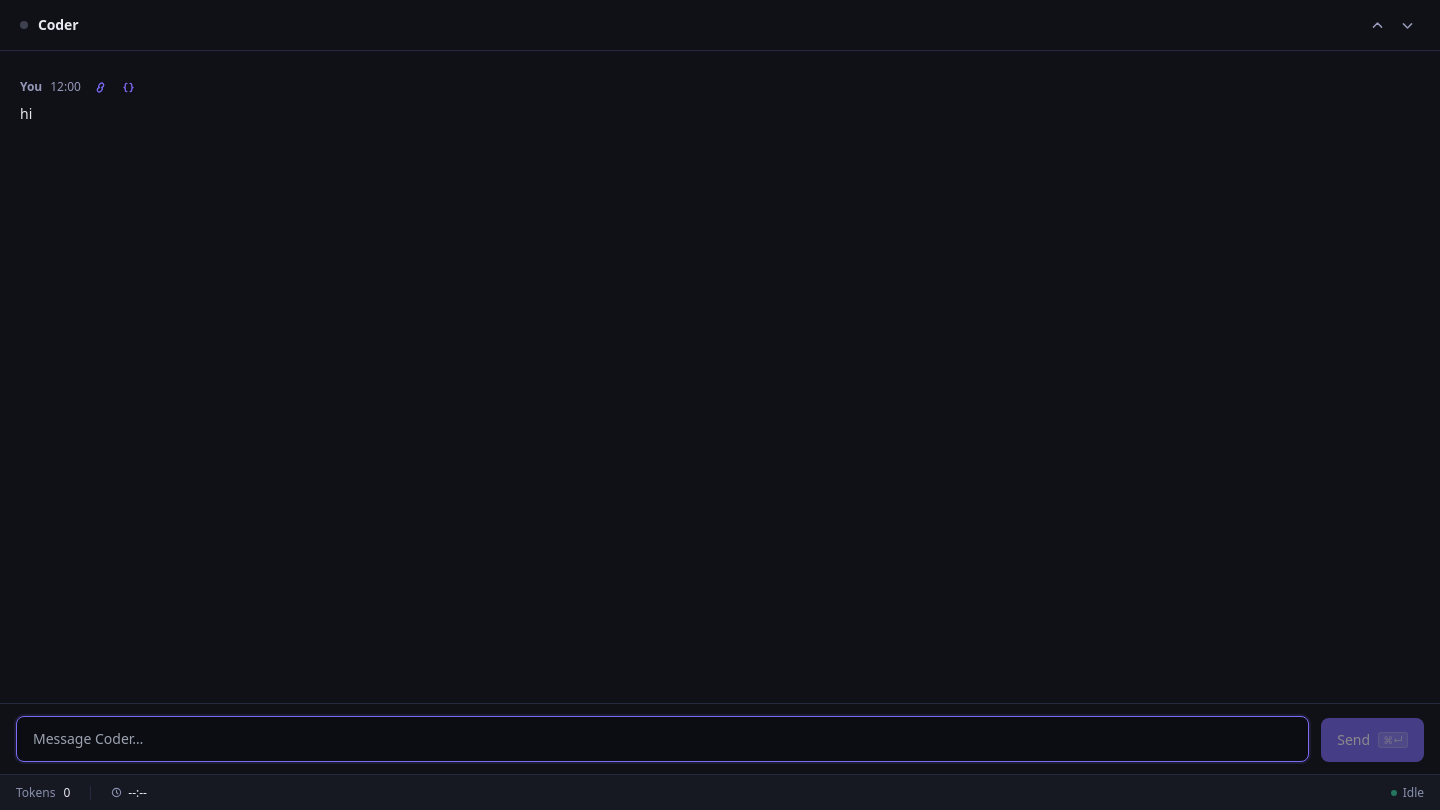
it: ChatArea raw-JSON modal › defaults to the Formatted tab and renders a JSON tree
The image size is (1440, 810).
Click the button named "View raw JSON (message)" at (129, 87), box top-left (117, 75), bottom-right (141, 99)
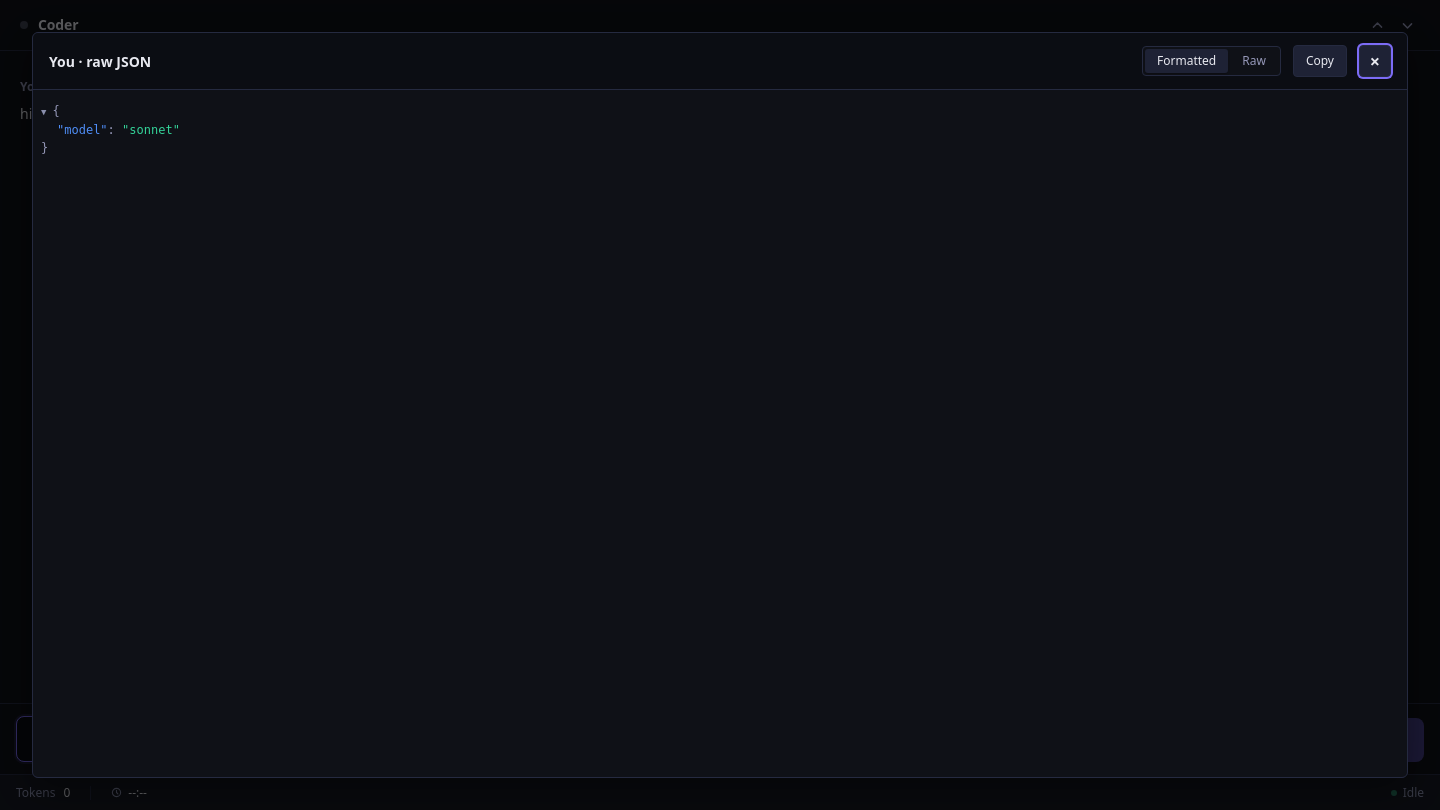
Check: the element with test id "formatted-json-body" is shown, box top-left (41, 104), bottom-right (180, 155)
